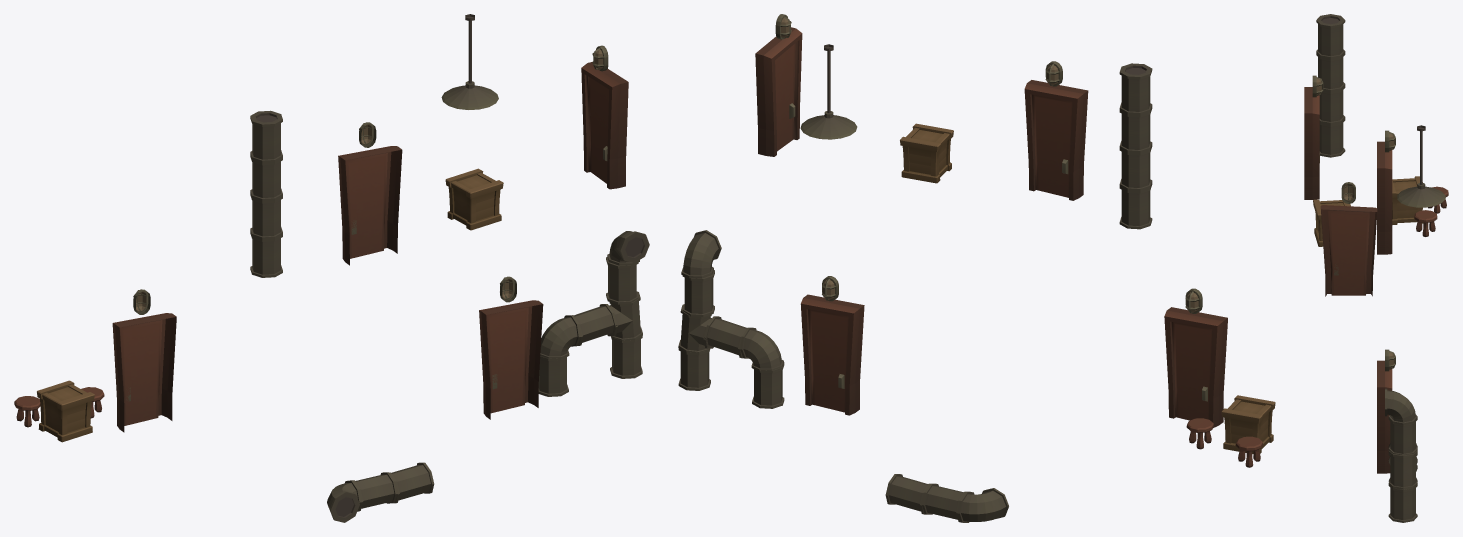
Rendered from SM_Setdressing_Level1_Small_Rooms.fbx.
The picture shows the model from 3 angles, left to right: view 1: azimuth 30°, elevation 25°; view 2: azimuth 150°, elevation 25°; view 3: azimuth 270°, elevation 25°; orthographic projection. The views are drawn at different scales.
Visible parts, largest first — view 1: SM_Setdressing_Level1_Small_Rooms; view 2: SM_Setdressing_Level1_Small_Rooms; view 3: SM_Setdressing_Level1_Small_Rooms.
Part boxes in pixels (<box>): SM_Setdressing_Level1_Small_Rooms: <box>14,14,649,522</box>; SM_Setdressing_Level1_Small_Rooms: <box>678,14,1275,522</box>; SM_Setdressing_Level1_Small_Rooms: <box>1304,14,1448,522</box>.
Bounding box in the file's own units: 1653 × 397 × 1192.
